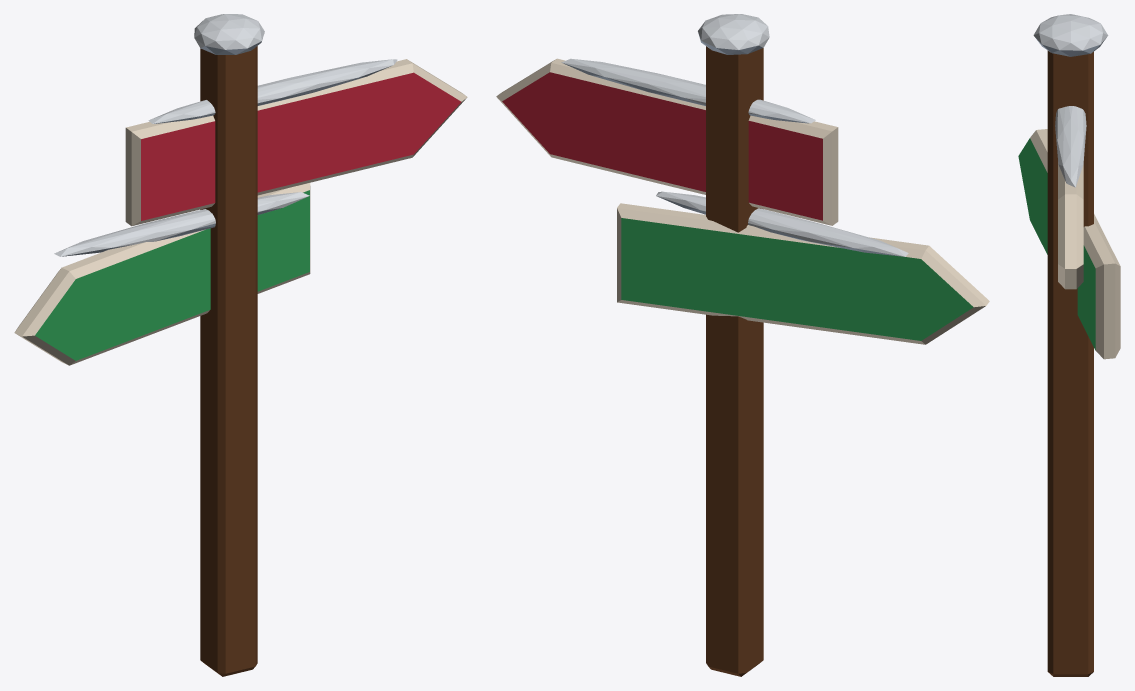
Rendered from Signpost.glb.
3 renders of one model, left to right at view 1: azimuth 30°, elevation 25°; view 2: azimuth 150°, elevation 25°; view 3: azimuth 270°, elevation 25°, orthographic.
Visible parts, largest first — view 1: Signpost; view 2: Signpost; view 3: Signpost.
Part boxes in pixels (left/top/right/bottom): Signpost: left=14, top=14, right=467, bottom=676; Signpost: left=496, top=14, right=989, bottom=676; Signpost: left=1018, top=14, right=1120, bottom=676.
Bounding box in the file's own units: 4.67 × 6.16 × 0.8795.
